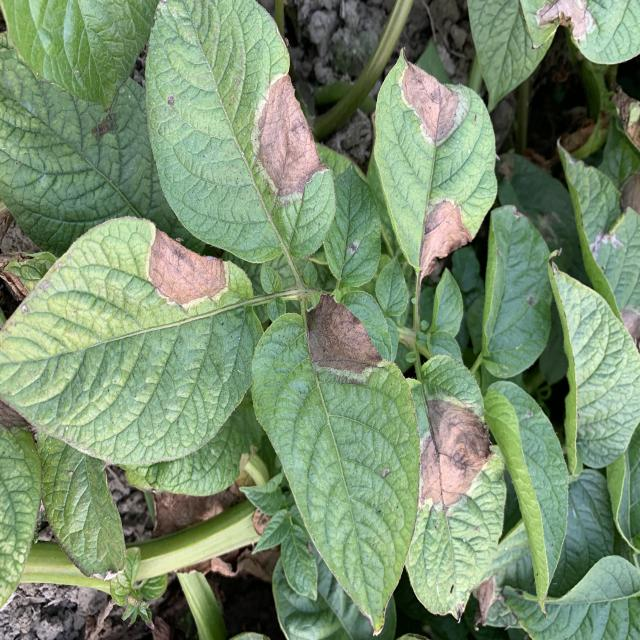lateblight: (258, 75, 325, 198), (421, 400, 491, 508), (306, 295, 381, 375), (149, 228, 226, 305), (399, 62, 460, 147), (420, 200, 472, 275), (520, 0, 596, 48), (475, 575, 496, 628), (621, 305, 640, 347)
